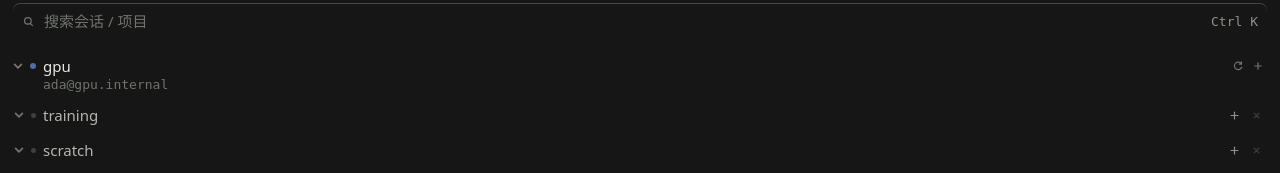
Scenario: the rail's search reaches every machine › keeps a machine whose folder matches, and only that folder
Step 1. Type "train" into the search field labelled "搜索会话 / 项目" → (623, 21), box [42,10,1204,32]
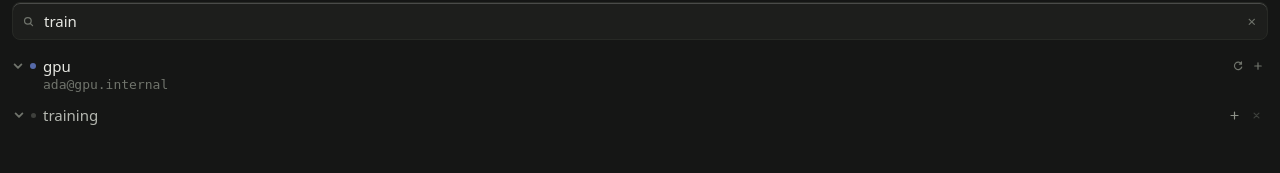
Expected: the text "training" is shown, [43,105,98,125]
Result: the text "scratch" is gone
